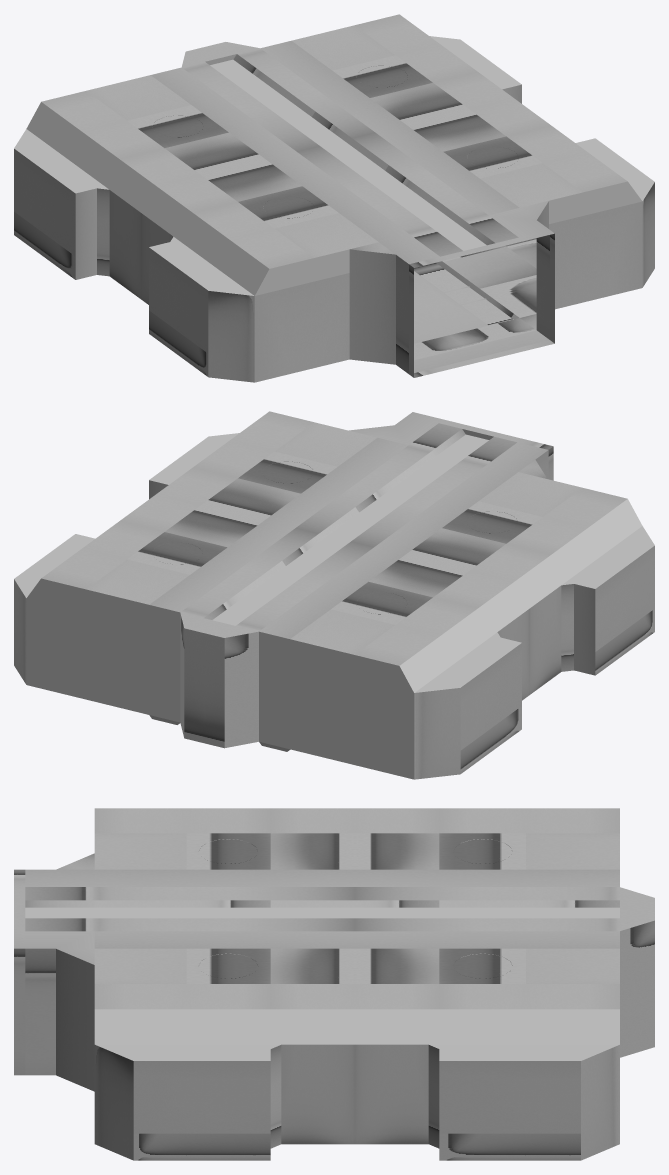
File: corridorD.FBX
3 renders of one model, top to bottom at view 1: azimuth 30°, elevation 25°; view 2: azimuth 150°, elevation 25°; view 3: azimuth 270°, elevation 25°, orthographic. The views are drawn at different scales.
Visible parts, largest first — view 1: corridorD; view 2: corridorD; view 3: corridorD.
Boxes of the visible parts, x1,y1,x2,y2 form: corridorD: (14,14,654,382); corridorD: (14,411,654,779); corridorD: (14,808,654,1160).
Size of the model in its own units: 45.65 by 49.37 by 11.1.
